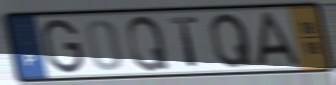0: (85, 18, 124, 73)
A: (256, 11, 302, 69)
G: (40, 18, 86, 76)
Q: (208, 11, 257, 70), (125, 14, 172, 73)
T: (168, 15, 201, 69)
